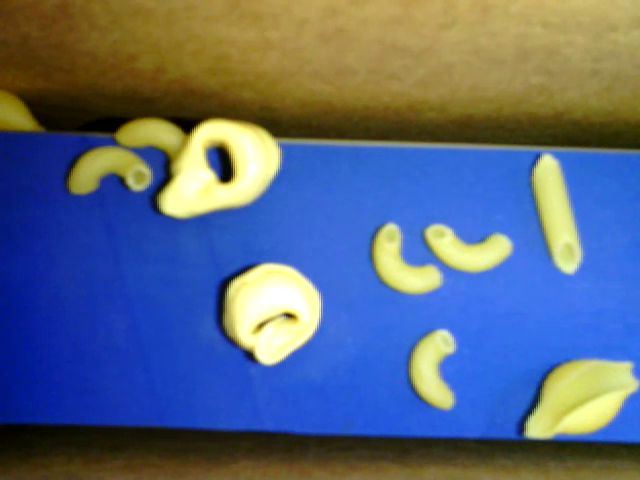elbow: (369, 220, 445, 296), (425, 221, 515, 274), (68, 146, 152, 195), (409, 328, 458, 409), (113, 114, 189, 163)
penne: (526, 149, 585, 276)
shell: (514, 356, 639, 441), (1, 89, 46, 132)
tortellini: (155, 116, 279, 221), (219, 260, 322, 366)
